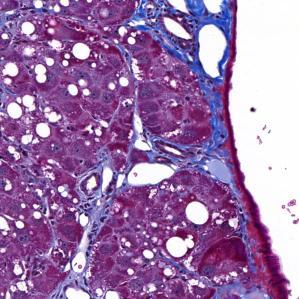fibrosis: (133, 0, 234, 53), (187, 77, 233, 169)
